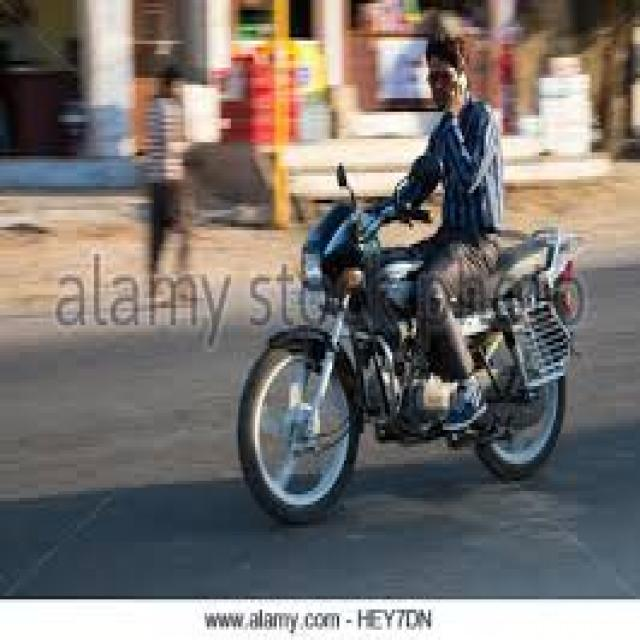Not Wearing Helmet: (419, 16, 465, 143)
Usage Of Phone While Riding: (365, 2, 534, 137)
